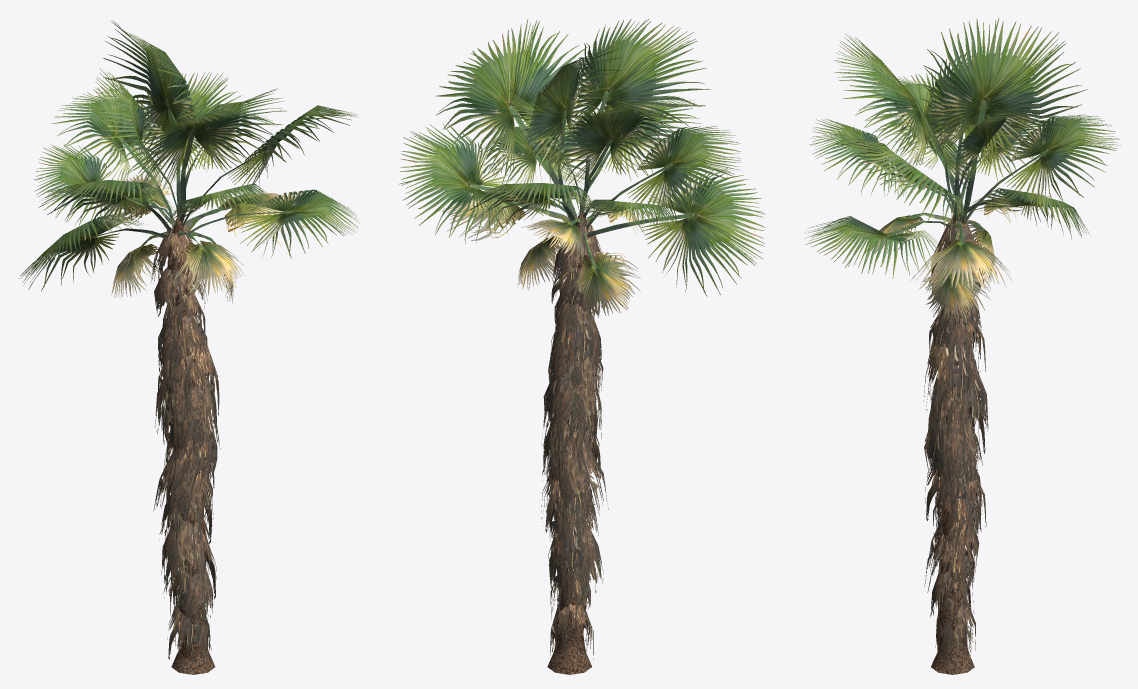
Rendered from tree-10.gltf.
3 views of the same model, side by side, from view 1: azimuth 30°, elevation 25°; view 2: azimuth 150°, elevation 25°; view 3: azimuth 270°, elevation 25° (orthographic).
Visible parts, largest first — view 1: 芭蕉树10; view 2: 芭蕉树10; view 3: 芭蕉树10.
Boxes of the visible parts, box(x1,y1,x2,y2) form: 芭蕉树10: box(18, 20, 361, 674); 芭蕉树10: box(399, 19, 765, 674); 芭蕉树10: box(805, 18, 1121, 674).
Size of the model in its own units: 4.33 by 7.83 by 3.66.
1 material, 1 textured.
